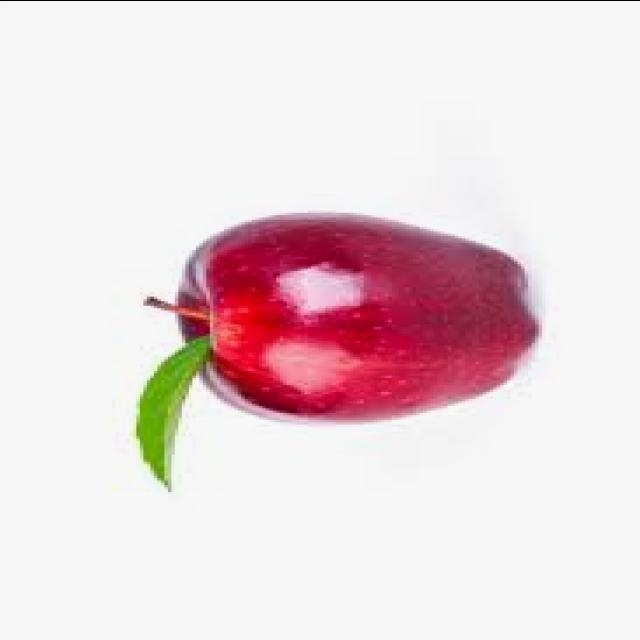agrume: (140, 158, 583, 458)
